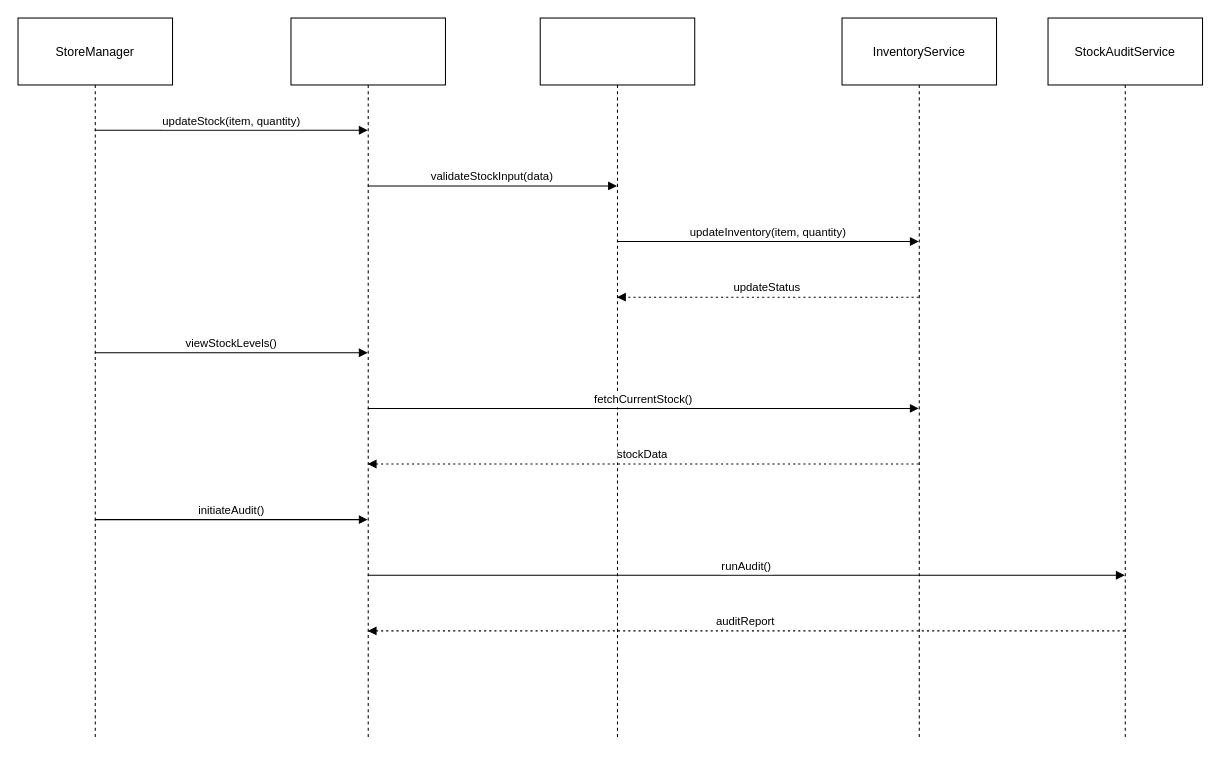
Image size: 1221x757. Some labels were removed from this diagram. Each missing label, with the box of its shape:
StorageController: (539, 17, 695, 739)
StorageUI: (290, 17, 445, 739)
